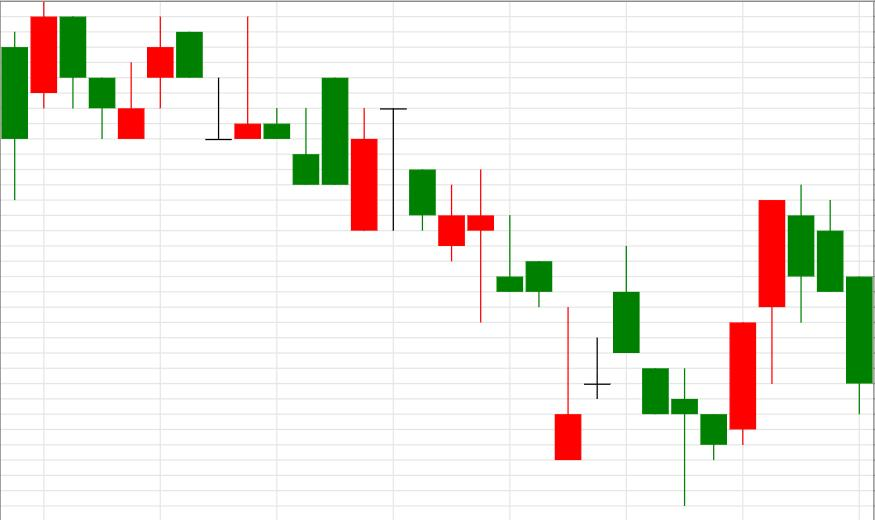inverse_hammer_rise: (408, 170, 582, 461)
